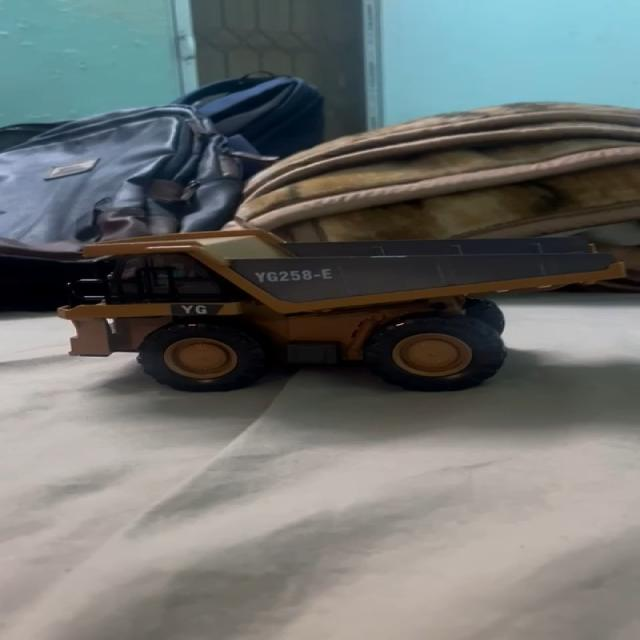dump_truck: (61, 234, 638, 392)
